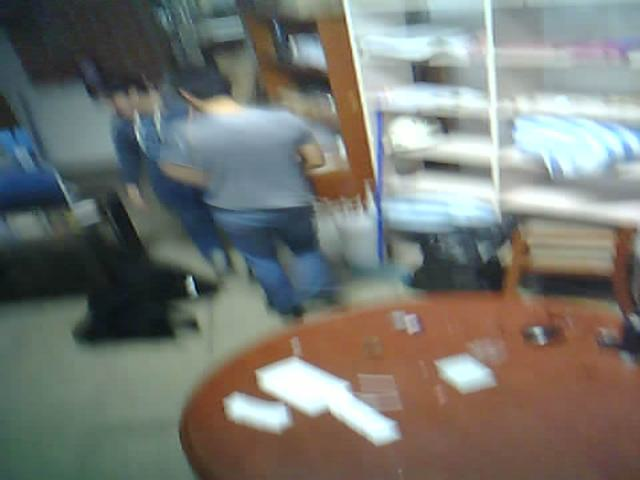person: (155, 58, 357, 327), (62, 29, 245, 281)
